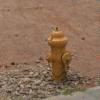Hydrant: (35, 18, 76, 81)
